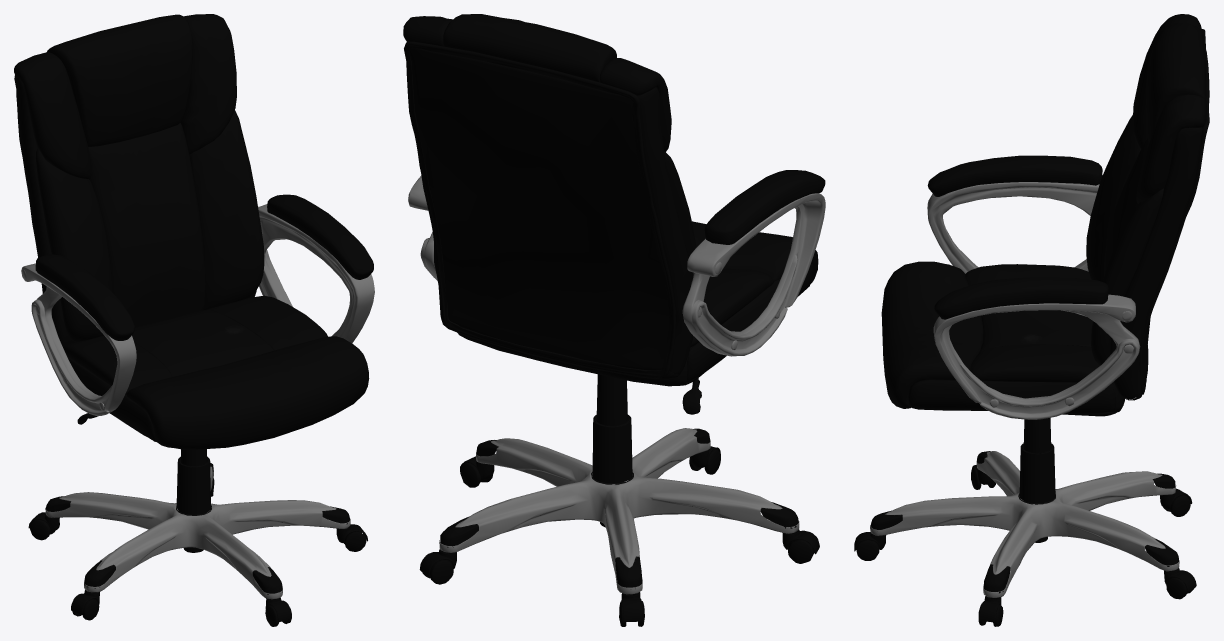
Rendered from abo-B082L1F4MS.glb.
3 views of the same model, side by side, from view 1: azimuth 30°, elevation 25°; view 2: azimuth 150°, elevation 25°; view 3: azimuth 270°, elevation 25° (orthographic). The views are drawn at different scales.
Size of the model in its own units: 0.7206 by 1.13 by 0.7204.
Materials: 1 (1 with a texture image).
